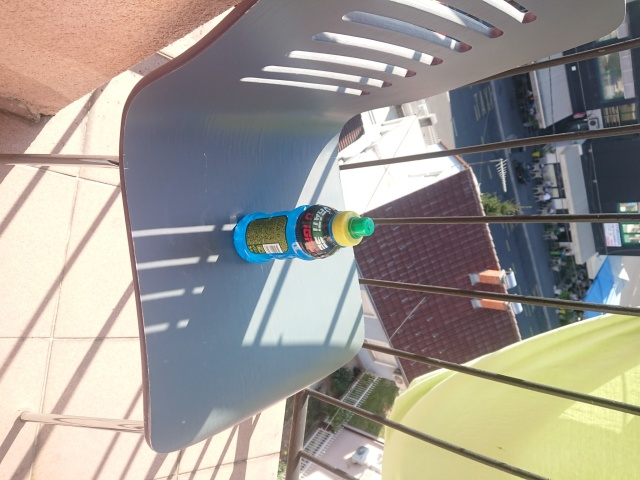Vindi Iso Sport Forest Strawberries 500mL: (230, 201, 375, 264)
